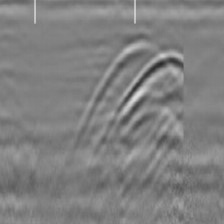Utility: (80, 37, 185, 143)
